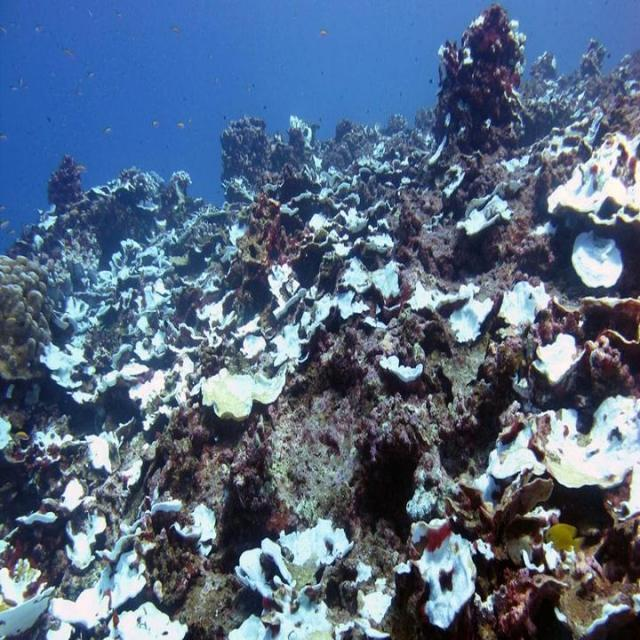Dead Coral: (269, 383, 456, 511), (226, 120, 292, 183), (46, 144, 99, 219)
